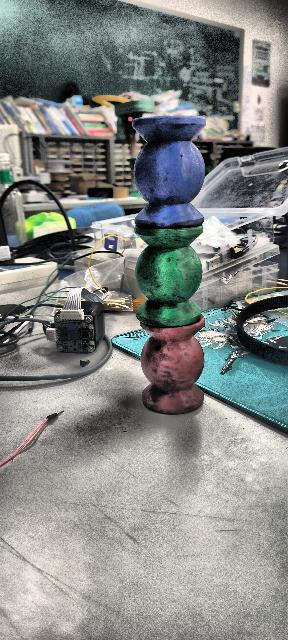blue: (132, 114, 207, 228)
green: (132, 226, 206, 328)
red: (139, 316, 211, 412)
